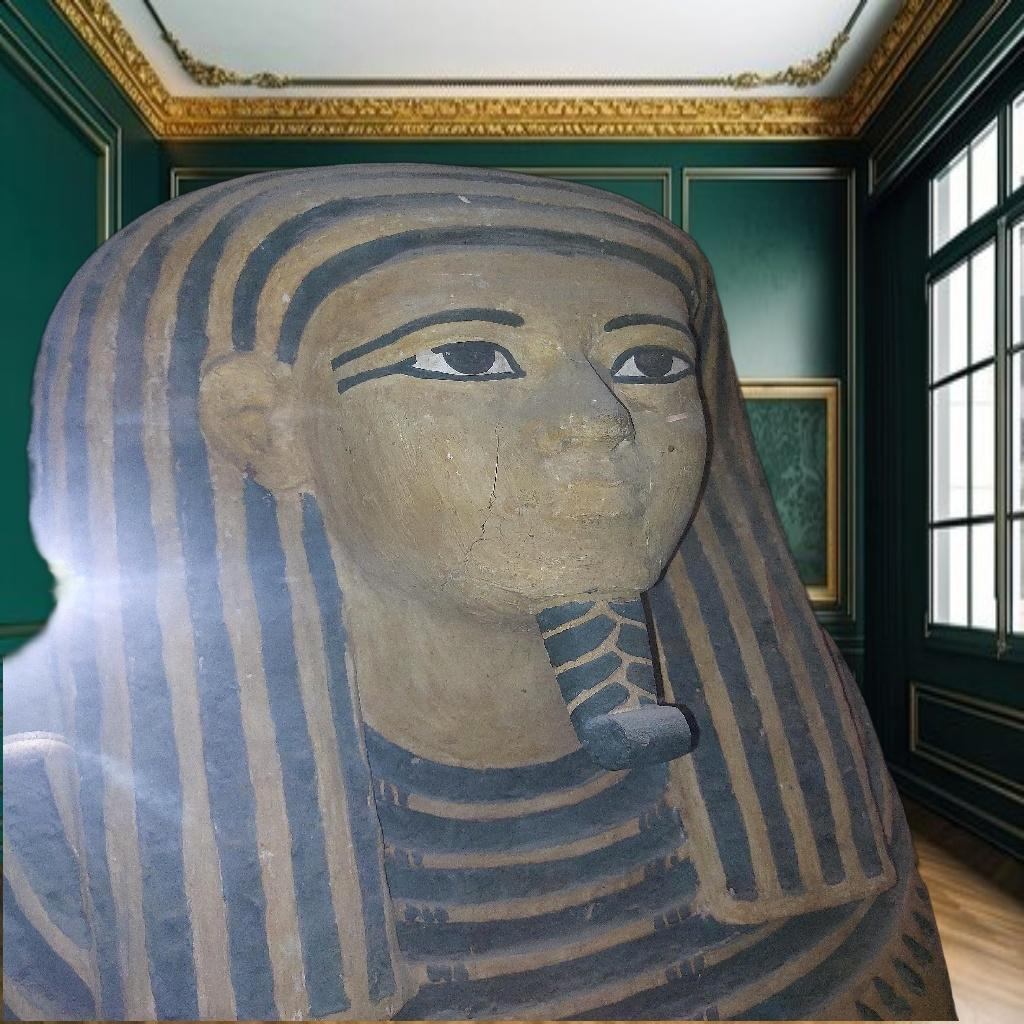Coffin of Ahmose I: (4, 158, 960, 1021)
